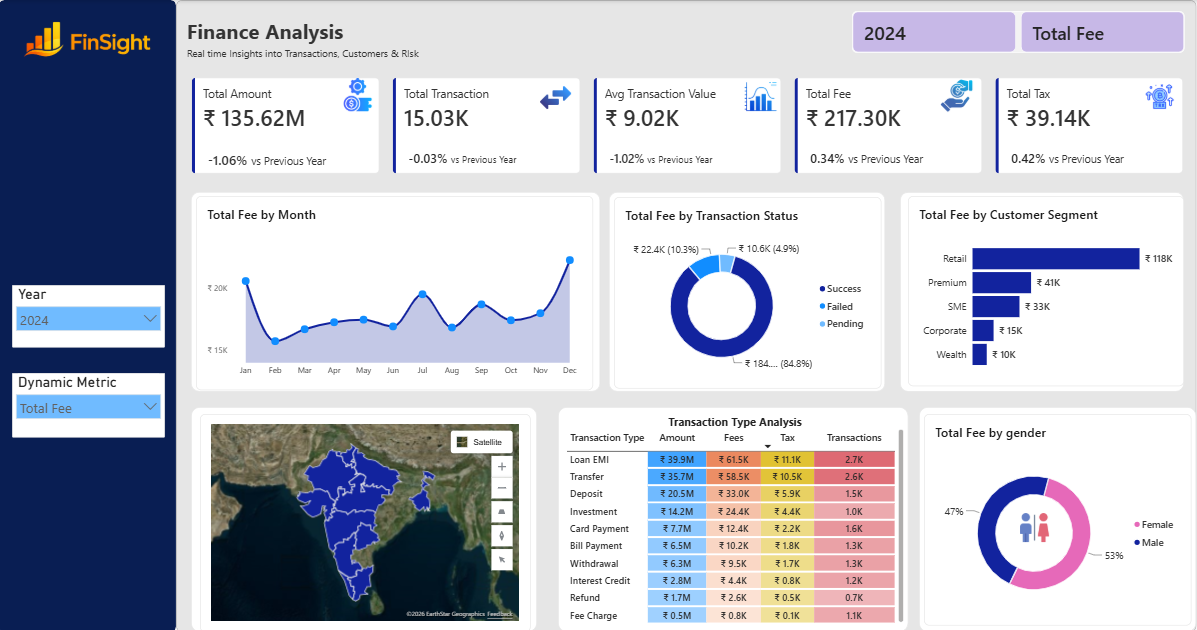

The page's visual inventory and layout, read from the dashboard file:
{"tool":"powerbi","page":{"name":"Page 1","canvas":[1800,950],"ordinal":0},"visuals":[{"type":"shape","box":[0,0,266,950],"z":0},{"type":"shape","box":[266,0,1534,950],"z":1000},{"type":"image","box":[30,16,210,86],"z":2000},{"type":"cardVisual","fields":{"Data":["Measure.Dashboard Title"]},"box":[266,0,470,116],"z":3000},{"type":"cardVisual","fields":{"Data":["Measure.Total Amount","Measure.Total Transaction","Measure.Avg Transaction Value","Measure.Total Fee","Measure.Total Tax"]},"box":[288,116,1494,146],"z":4000},{"type":"slicer","fields":{"Values":["Calendar Table.Year"]},"box":[20,428,230,94],"z":5000},{"type":"image","box":[513.3,116.7,50,50],"z":6000},{"type":"image","box":[1120,120,50,50],"z":7000},{"type":"image","box":[1415,118.3,50,50],"z":8000},{"type":"image","box":[1720,120,50,50],"z":9000},{"type":"image","box":[811.7,121.7,50,50],"z":10000},{"type":"slicer","fields":{"Values":["Dynamic Metric.Dynamic Metric"]},"box":[20,560,230,96.7],"z":11000},{"type":"shape","box":[288.3,289.1,615,300],"z":12000},{"type":"areaChart","fields":{"Category":["Calendar Table.Month"],"Y":["Measure.Total Fee"]},"box":[296.7,295,596.7,291.7],"z":13000},{"type":"cardVisual","fields":{"Data":["Measure.Selected Year","Measure.Selected Dynamic Measure"]},"box":[1281.7,16.7,500,63.3],"z":14000},{"type":"shape","box":[916.7,289.1,415,300],"z":15000},{"type":"donutChart","fields":{"Category":["finance_transactions.transaction_status"],"Y":["Measure.Total Fee"]},"box":[925,295.7,401.7,288.3],"z":16000},{"type":"shape","box":[1355,288.3,426.7,300],"z":17000},{"type":"barChart","fields":{"Category":["customers.customer_segment"],"Y":["Measure.Total Fee"]},"box":[1366.7,295,415,286],"z":18000},{"type":"shape","box":[288.3,611.7,520,338.3],"z":19000},{"type":"azureMap","fields":{"Category":["customers.state"]},"box":[301.7,621.7,496.7,328.3],"z":20000},{"type":"shape","box":[840,611.7,526.7,338.3],"z":21000},{"type":"tableEx","title":"Transaction Type Analysis","fields":{"Values":["finance_transactions.transaction_type","Measure.Total Amount","Measure.Total Fee","Measure.Total Tax","Measure.Total Transaction"]},"box":[846.7,618.3,520,321.7],"z":22000},{"type":"shape","box":[1383.3,611.7,416.7,338.3],"z":23000},{"type":"donutChart","fields":{"Category":["customers.gender"],"Y":["Measure.Total Fee"]},"box":[1390,621.7,401.7,318.3],"z":25500},{"type":"image","box":[1531.7,768.3,50,50],"z":26000}]}

Visuals, with their boxes on the page's 1800x950 design canvas (x1, y1, x2, y2). These are canvas units, not pixel positions in the 1197x630 screenshot, which may show the page scaled, cropped or inside an application window:
shape: select_region(0, 0, 266, 950)
shape: select_region(266, 0, 1800, 950)
image: select_region(30, 16, 240, 102)
cardVisual - Measure.Dashboard Title: select_region(266, 0, 736, 116)
cardVisual - Measure.Total Amount x Measure.Total Transaction: select_region(288, 116, 1782, 262)
slicer - Calendar Table.Year: select_region(20, 428, 250, 522)
image: select_region(513, 117, 563, 167)
image: select_region(1120, 120, 1170, 170)
image: select_region(1415, 118, 1465, 168)
image: select_region(1720, 120, 1770, 170)
image: select_region(812, 122, 862, 172)
slicer - Dynamic Metric.Dynamic Metric: select_region(20, 560, 250, 657)
shape: select_region(288, 289, 903, 589)
areaChart - Calendar Table.Month x Measure.Total Fee: select_region(297, 295, 893, 587)
cardVisual - Measure.Selected Year x Measure.Selected Dynamic Measure: select_region(1282, 17, 1782, 80)
shape: select_region(917, 289, 1332, 589)
donutChart - finance_transactions.transaction_status x Measure.Total Fee: select_region(925, 296, 1327, 584)
shape: select_region(1355, 288, 1782, 588)
barChart - customers.customer_segment x Measure.Total Fee: select_region(1367, 295, 1782, 581)
shape: select_region(288, 612, 808, 950)
azureMap - customers.state: select_region(302, 622, 798, 950)
shape: select_region(840, 612, 1367, 950)
"Transaction Type Analysis" tableEx: select_region(847, 618, 1367, 940)
shape: select_region(1383, 612, 1800, 950)
donutChart - customers.gender x Measure.Total Fee: select_region(1390, 622, 1792, 940)
image: select_region(1532, 768, 1582, 818)
